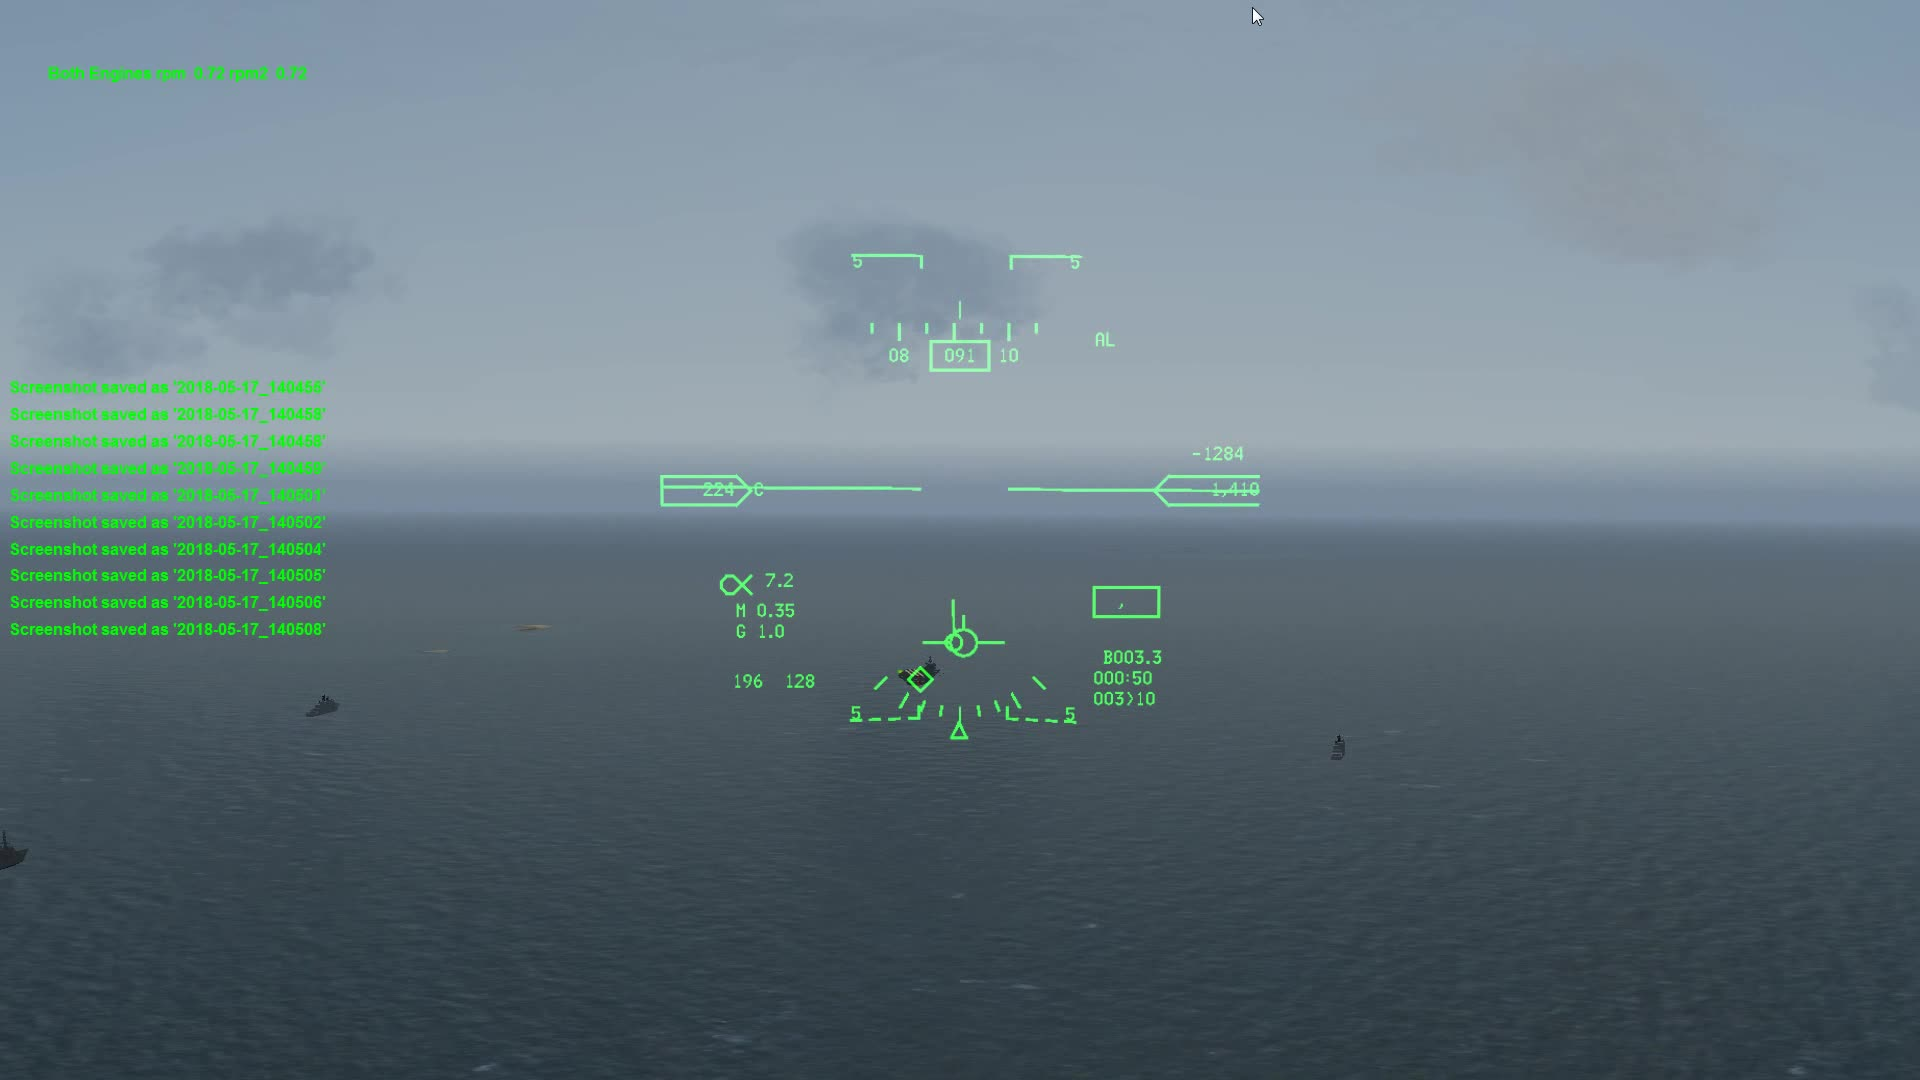speed vector: (909, 604, 1018, 666)
